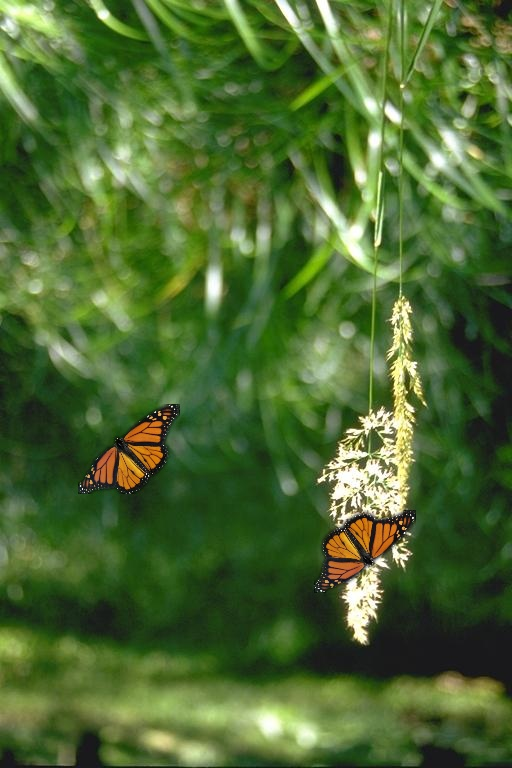danaus_plexippus: (78, 404, 180, 494), (314, 510, 416, 593)
